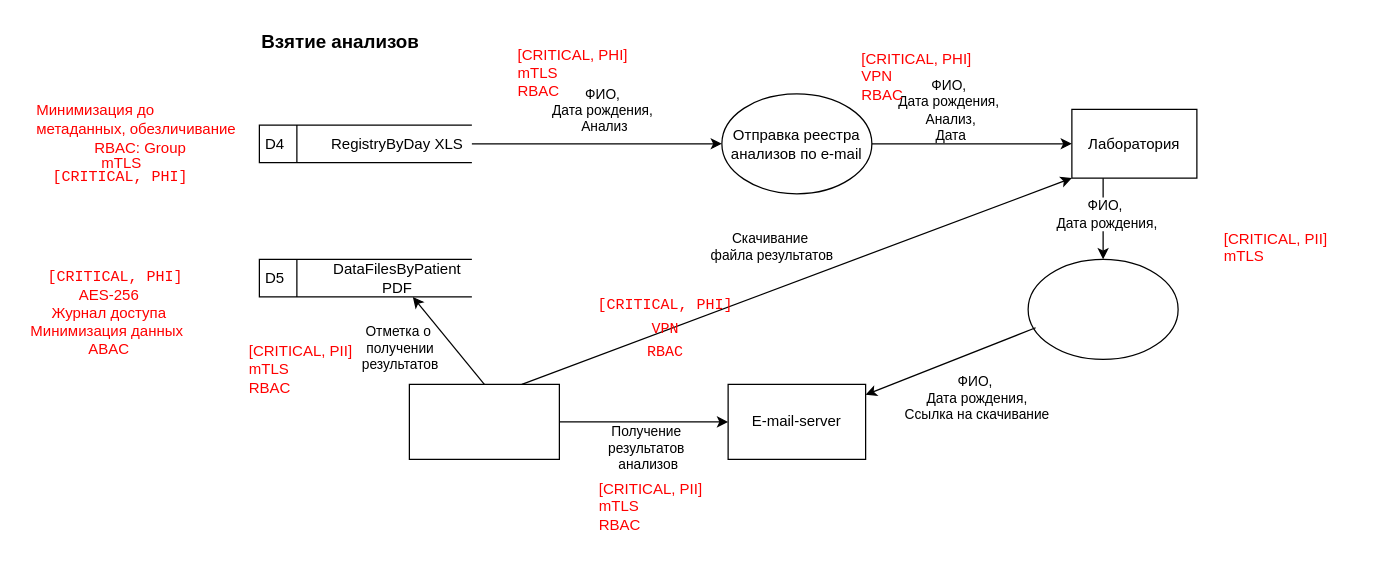
This 1393x580 diagram has some shape labels left out. The centre of each missing label's shape, as x and y in pixels:
Отправка результатов анализов: point 1102,308
Ресепшн: point 483,421
